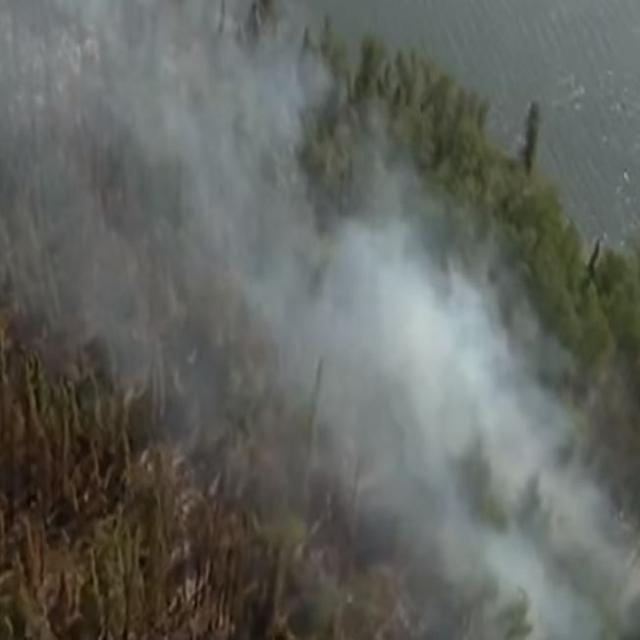Smoke: (286, 195, 613, 605), (70, 28, 309, 363)
